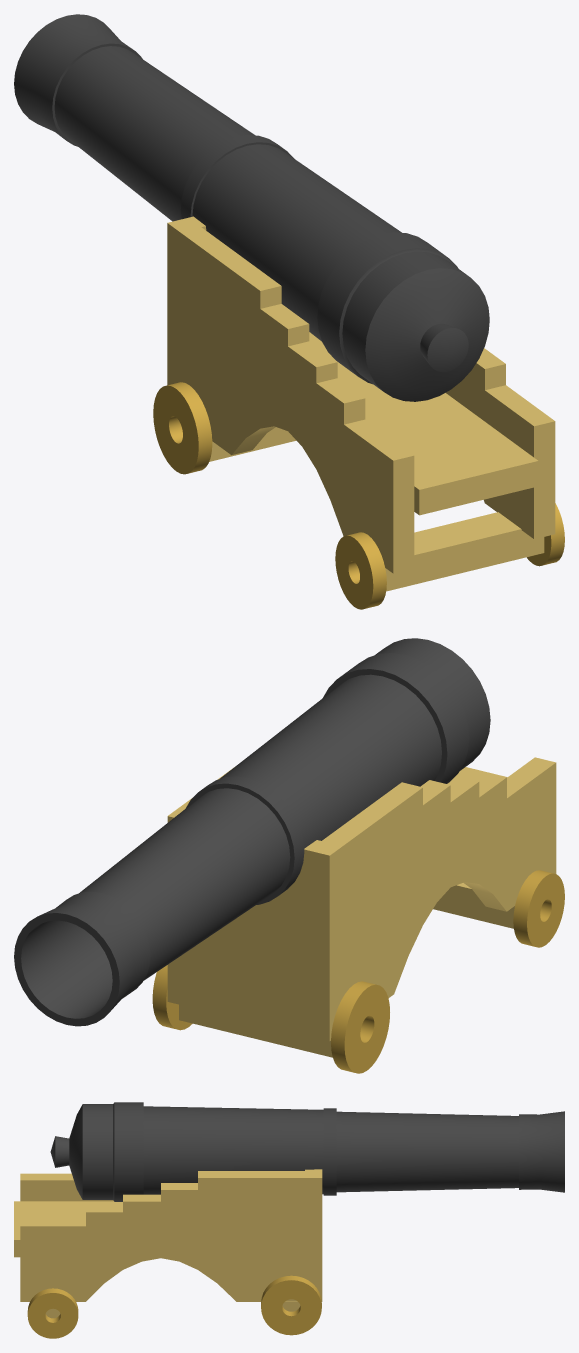
Rendered from cannon.fbx.
3 renders of one model, top to bottom at view 1: azimuth 30°, elevation 25°; view 2: azimuth 150°, elevation 25°; view 3: azimuth 270°, elevation 25°, orthographic. The views are drawn at different scales.
Visible parts, largest first — view 1: cannon_bottom, cannon_gun, cannon_wheel.002, cannon_wheel.001, cannon_wheel; view 2: cannon_gun, cannon_bottom, cannon_wheel.002, cannon_wheel.001, cannon_wheel.003; view 3: cannon_gun, cannon_bottom, cannon_wheel.003, cannon_wheel.
Part boxes in pixels (bbox=[...]): cannon_bottom: bbox=[167, 216, 555, 591]; cannon_gun: bbox=[14, 14, 489, 401]; cannon_wheel.002: bbox=[153, 382, 212, 474]; cannon_wheel.001: bbox=[335, 532, 386, 609]; cannon_wheel: bbox=[527, 503, 564, 566]; cannon_gun: bbox=[14, 638, 490, 1026]; cannon_bottom: bbox=[167, 757, 556, 1057]; cannon_wheel.002: bbox=[331, 981, 389, 1073]; cannon_wheel.001: bbox=[513, 870, 564, 947]; cannon_wheel.003: bbox=[152, 965, 192, 1030]; cannon_gun: bbox=[50, 1102, 564, 1201]; cannon_bottom: bbox=[14, 1169, 322, 1318]; cannon_wheel.003: bbox=[261, 1275, 321, 1335]; cannon_wheel: bbox=[27, 1288, 78, 1338].
Bounding box in the file's own units: 308 × 461 × 1147.
